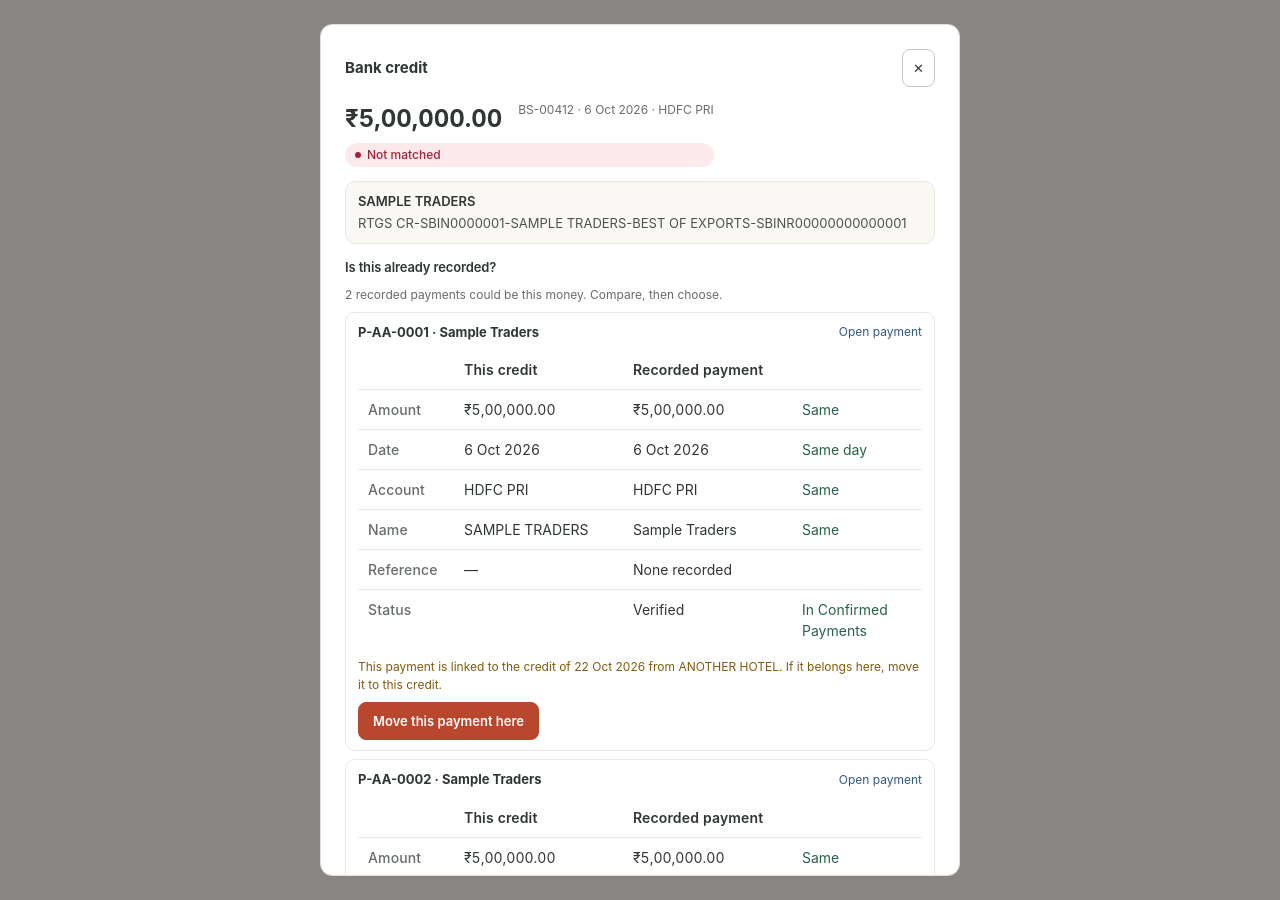
Test: a payment linked to another credit › the reason box opens inside its own card, above the next one
Click the button "Move this payment here" at (448, 721), box [358,702,539,740]
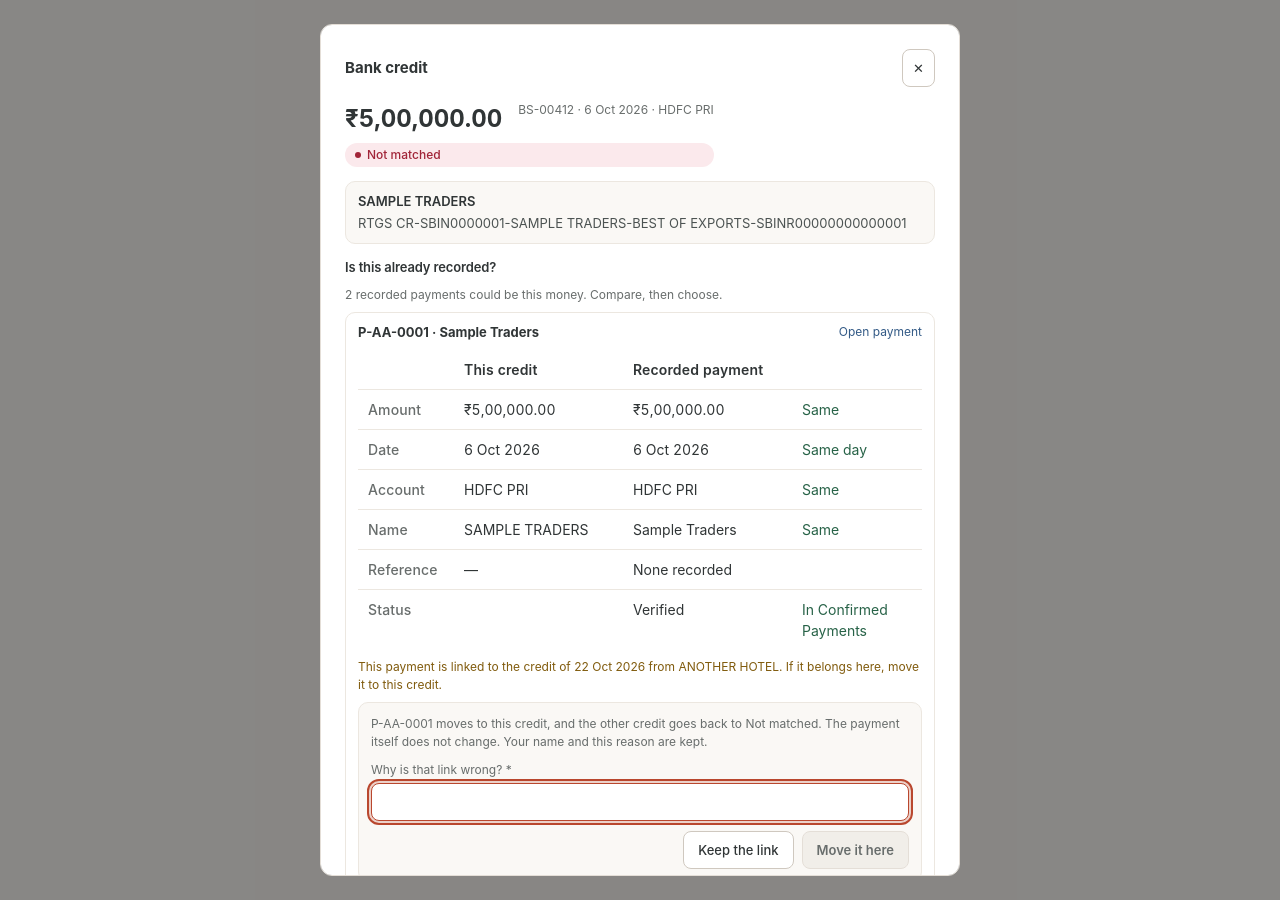
Now the field labelled "Why is that link wrong? *" is shown, box [371,783,909,821]
